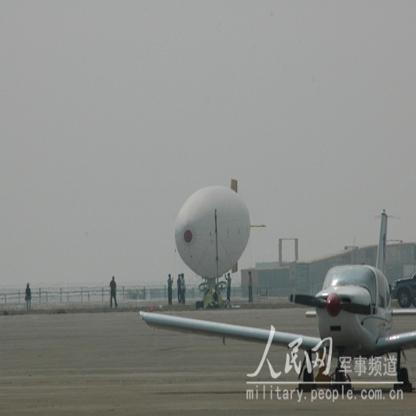Airship: (166, 181, 268, 285)
